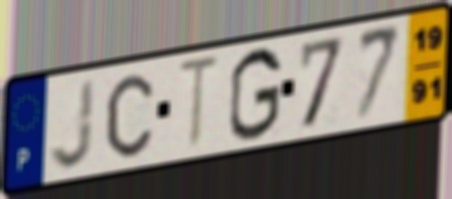7: (297, 31, 348, 133), (356, 20, 403, 126)
C: (104, 70, 156, 160)
G: (227, 45, 284, 145)
J: (47, 76, 98, 173)
T: (175, 52, 224, 155)
